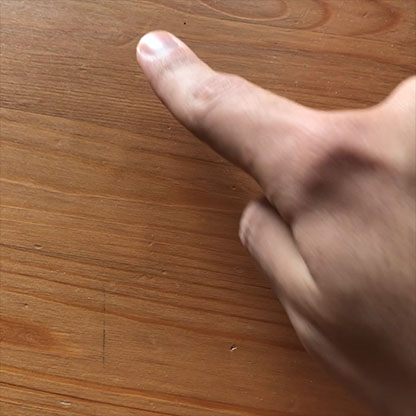fingertip: (124, 24, 195, 78)
